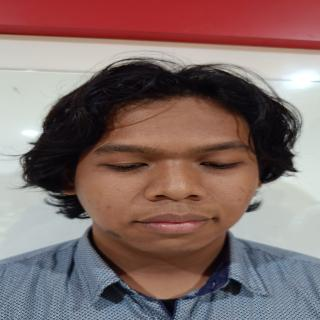Sedih: (77, 92, 271, 259)
